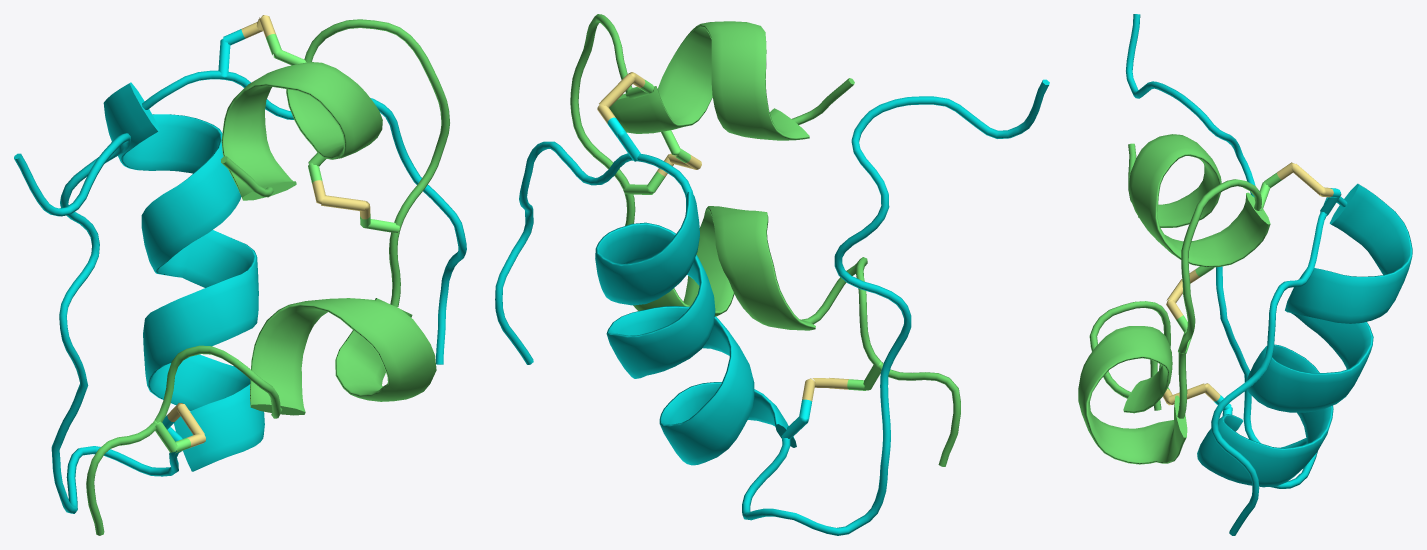
Rendered from insulin3.gltf.
3 renders of one model, left to right at view 1: azimuth 30°, elevation 25°; view 2: azimuth 150°, elevation 25°; view 3: azimuth 270°, elevation 25°, orthographic. The views are drawn at different scales.
Parts seen in each view (by area): view 1: node-geom21; view 2: node-geom21; view 3: node-geom21.
Part boxes in pixels (x1=…): node-geom21: x1=14, y1=19, x2=466, y2=535; node-geom21: x1=495, y1=14, x2=1049, y2=535; node-geom21: x1=1078, y1=14, x2=1412, y2=535.
Size of the model in its own units: 26.54 by 22.34 by 17.52.
